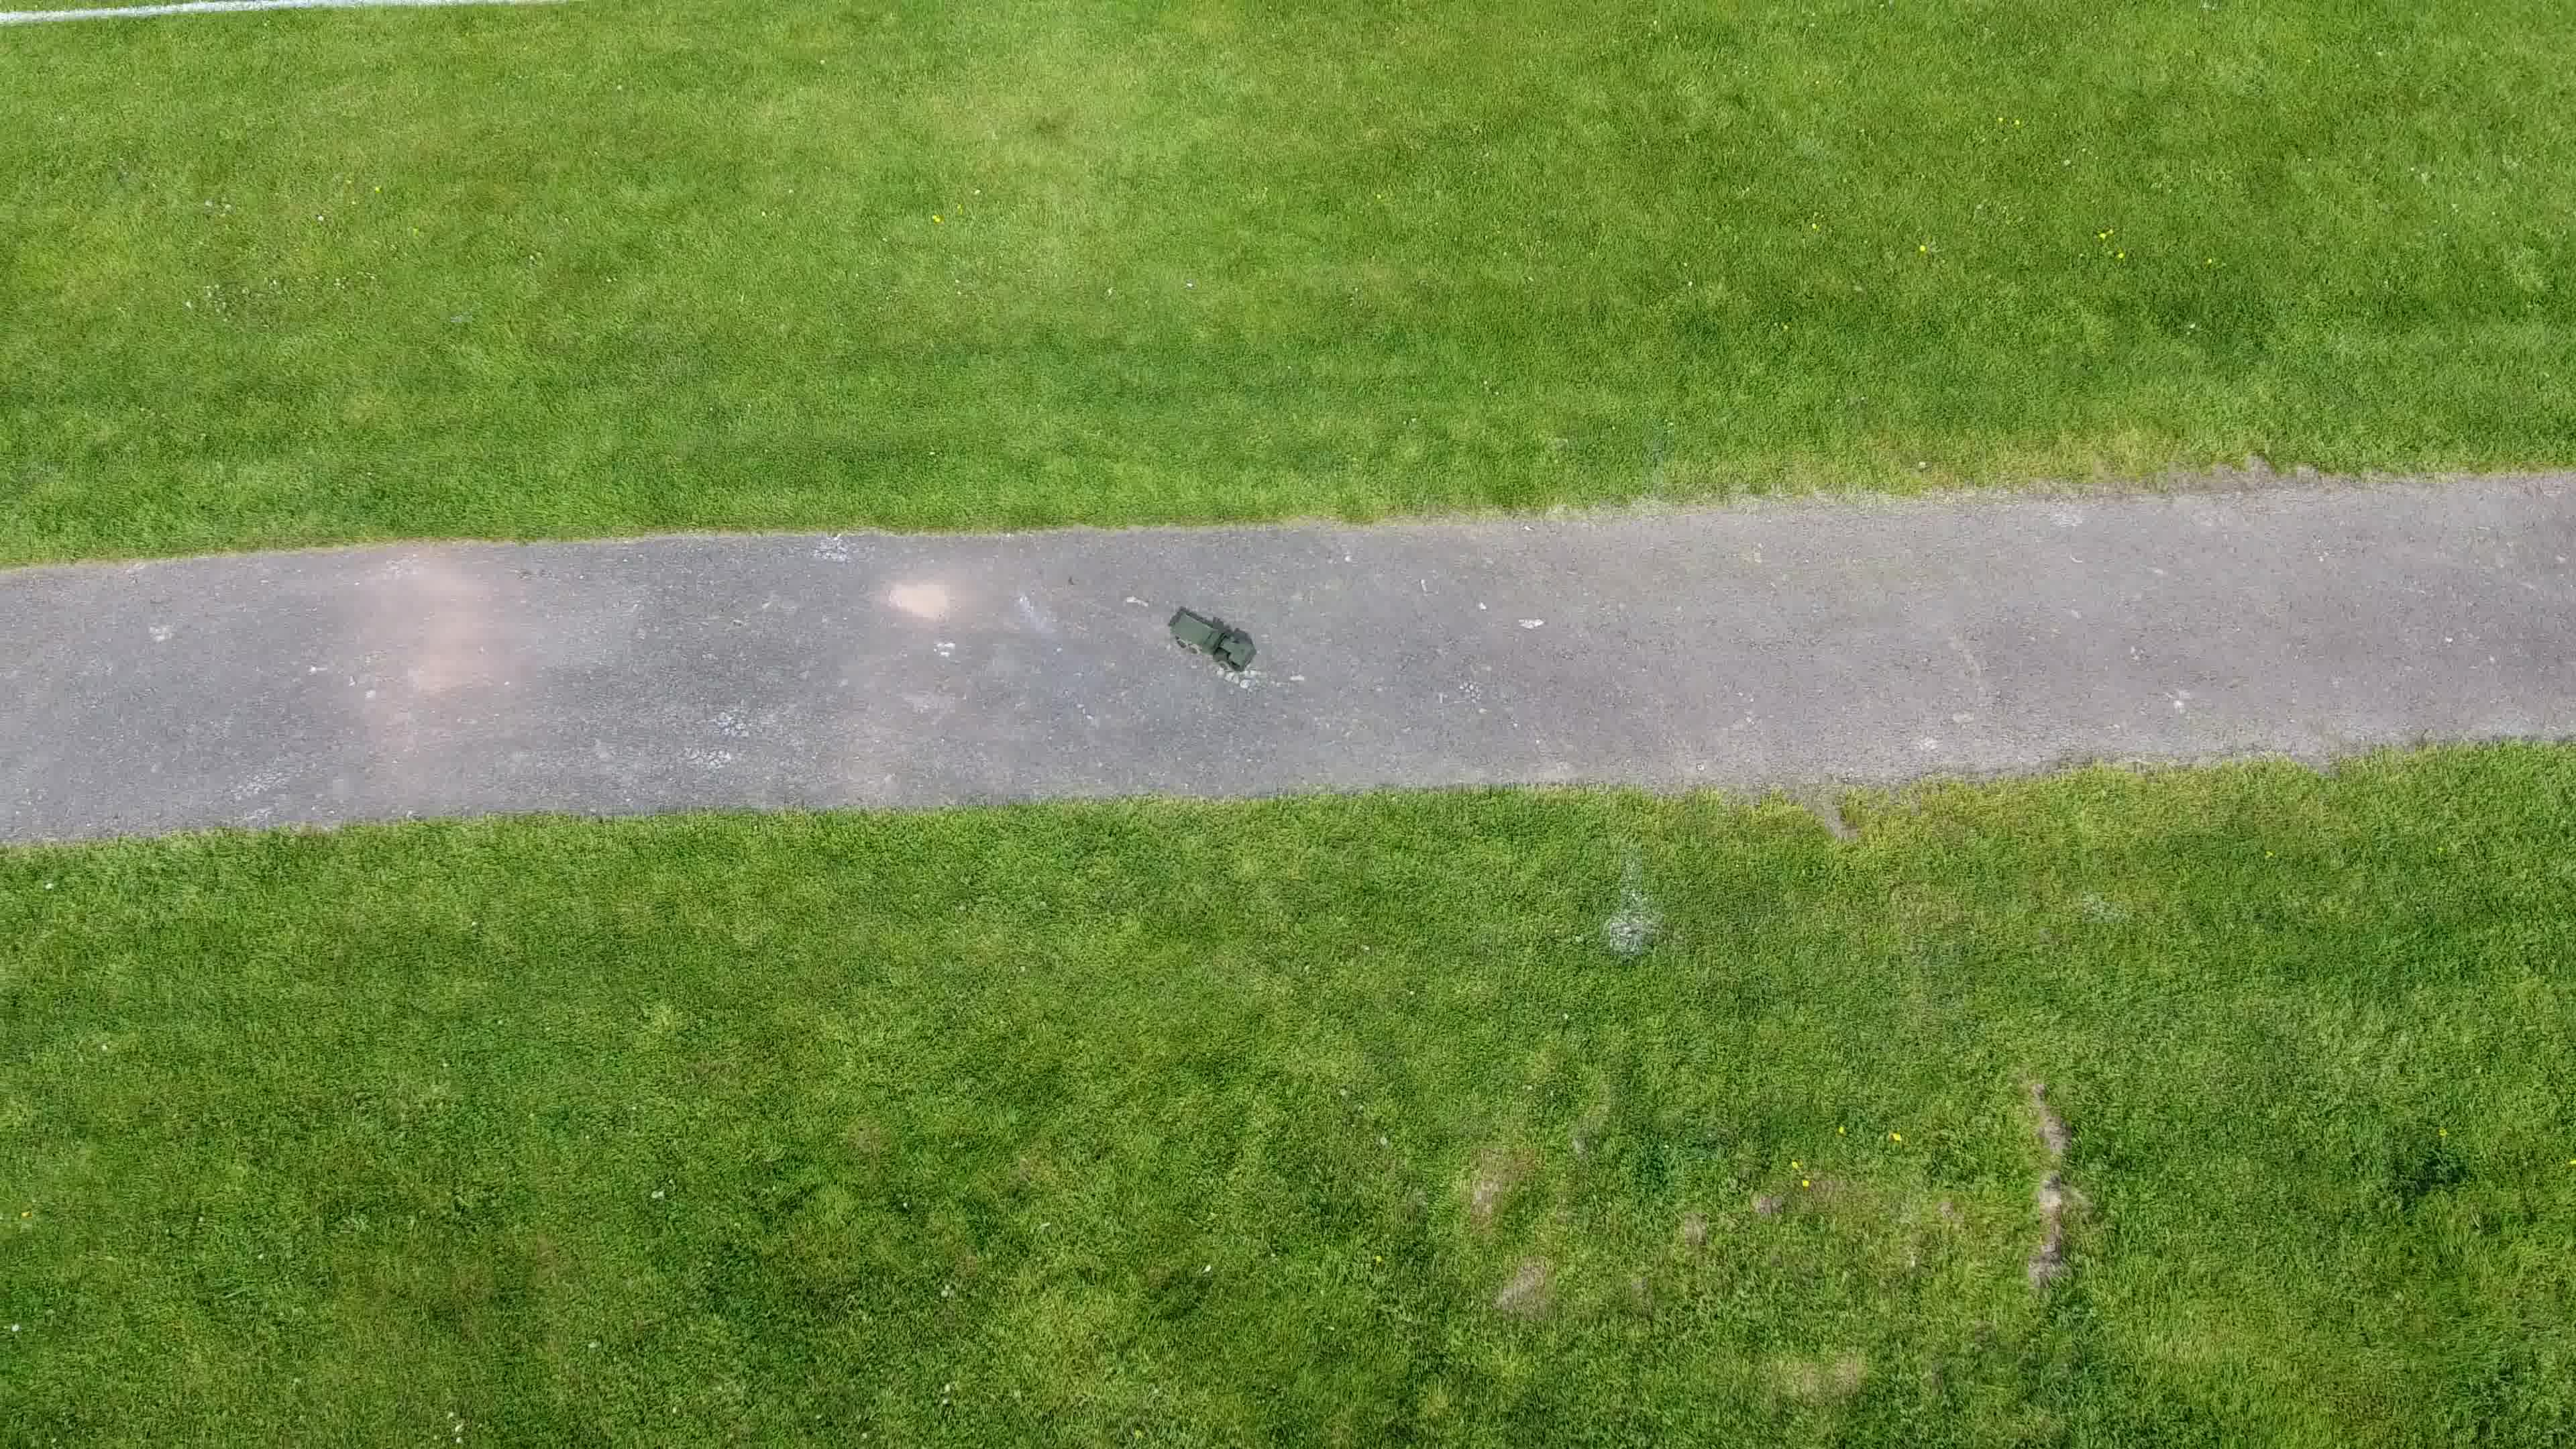transporter9: (1166, 609, 1258, 674)
